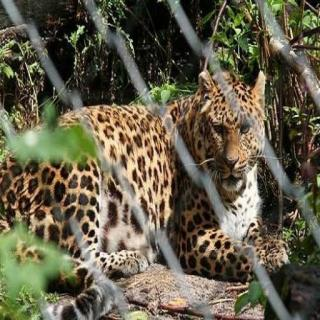Leopard: (1, 68, 309, 293)
